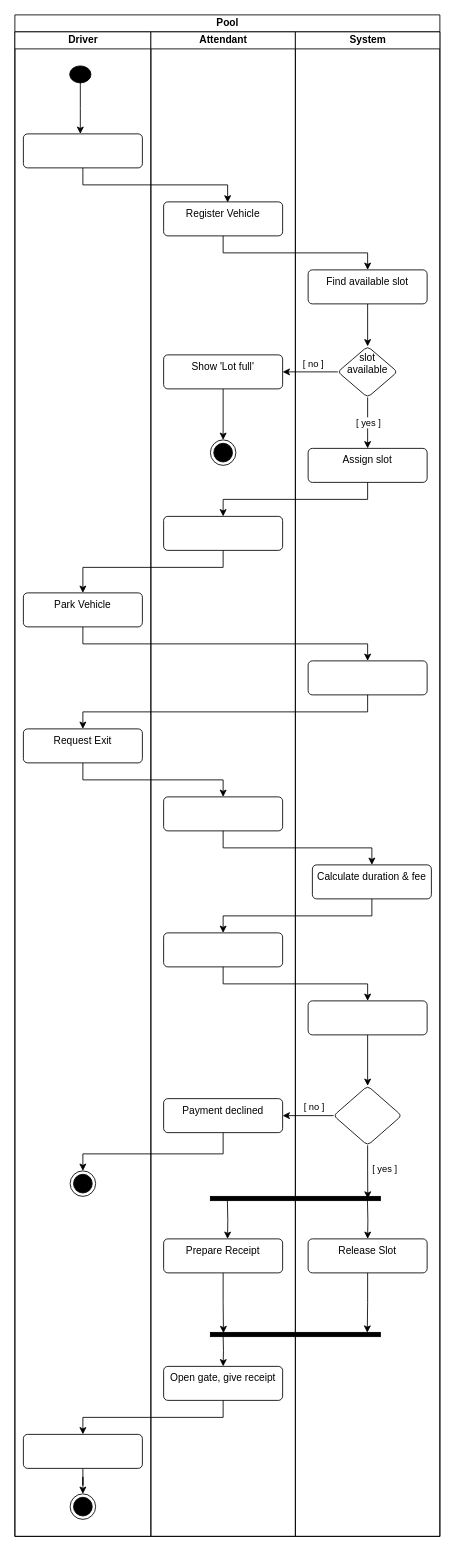
Some shapes in this 455 by 1551 pixel diagram are drawn without their labels. Each missing label, with the centre of its shape:
Collect Payment: pixel 223 949
Enter Parking: pixel 82 150
Exit Parking: pixel 82 1451
Issue Ticket: pixel 223 533
payment ok?: pixel 367 1115
Process Payment: pixel 367 1017
Scan Ticket: pixel 223 813
Track Duration: pixel 367 677
